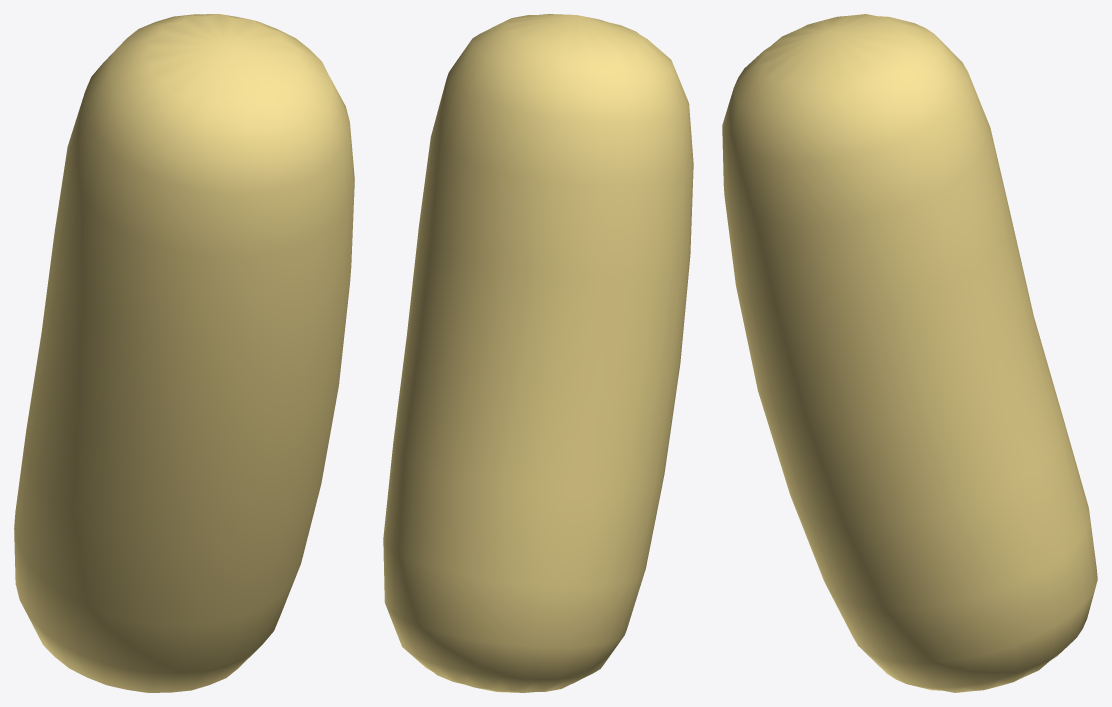
The picture shows the model from 3 angles, left to right: view 1: azimuth 30°, elevation 25°; view 2: azimuth 150°, elevation 25°; view 3: azimuth 270°, elevation 25°; orthographic projection. The views are drawn at different scales.
Parts seen in each view (by area): view 1: ZA_1062900a3407d29a; view 2: ZA_1062900a3407d29a; view 3: ZA_1062900a3407d29a.
Boxes of the visible parts, bbox=[...] form: ZA_1062900a3407d29a: bbox=[14, 14, 354, 692]; ZA_1062900a3407d29a: bbox=[383, 14, 693, 692]; ZA_1062900a3407d29a: bbox=[722, 14, 1097, 692].
Bounding box in the file's own units: 0.00517 × 0.0129 × 0.00681.
